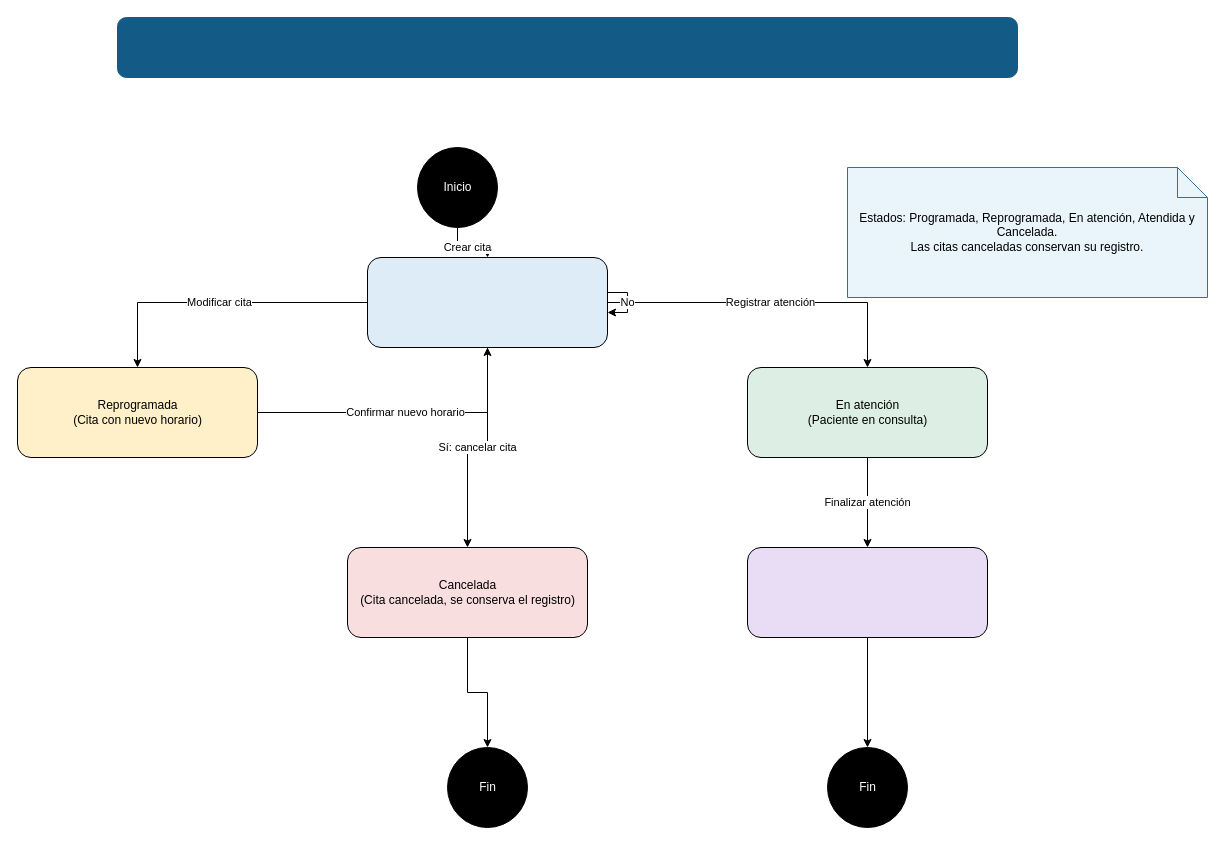
Image size: 1225x845. Some labels were removed from this diagram. Here are the shapes that lost their labels. From the top down, the centre of each, then its label:
pixel 567 47: Diagrama de Estados - Cita
pixel 487 302: Programada (Cita registrada en el sistema)
pixel 867 592: Atendida (Cita finalizada)
